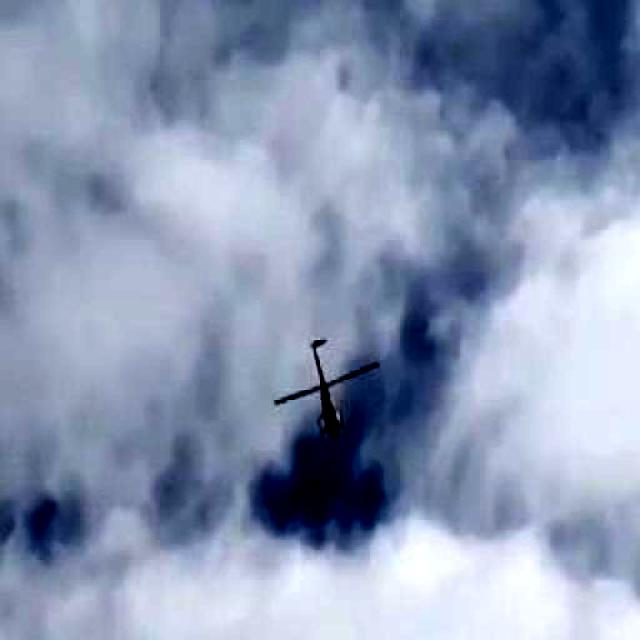drone: (252, 305, 394, 459)
